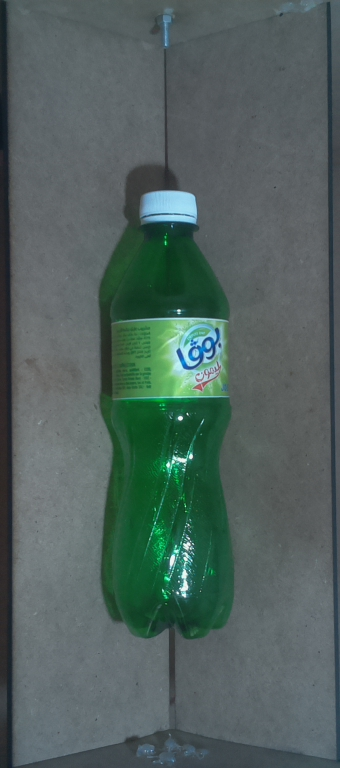Bouteille_0.5L: (89, 176, 246, 643)
